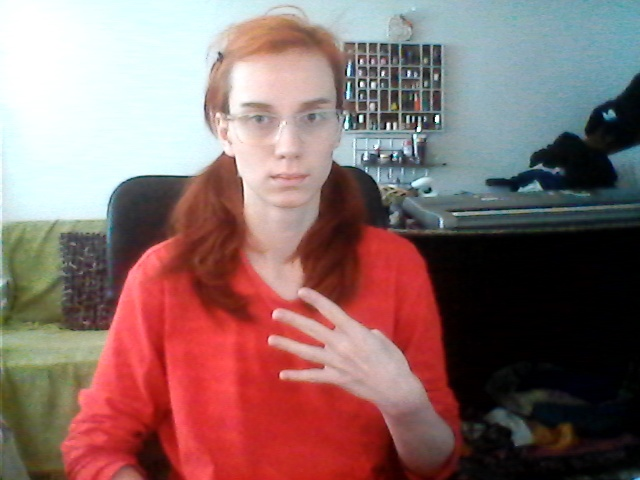styri: (265, 284, 416, 405)
